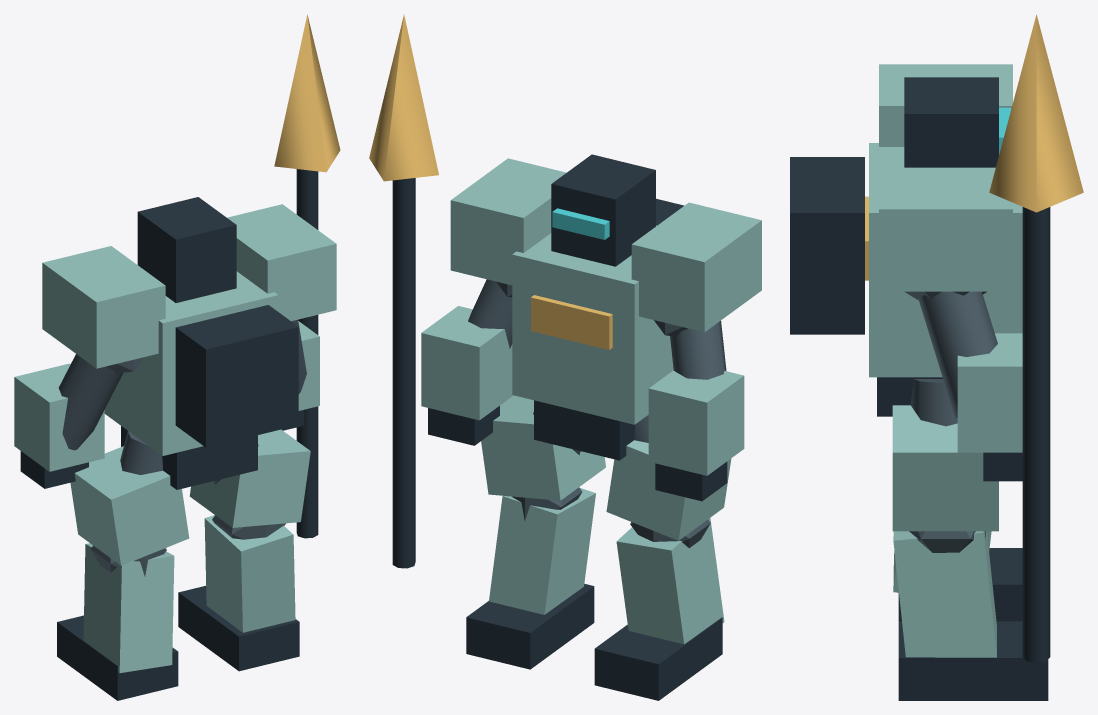
The model's file is frame-mourning-cloak.glb.
The picture shows the model from 3 angles, left to right: view 1: azimuth 30°, elevation 25°; view 2: azimuth 150°, elevation 25°; view 3: azimuth 270°, elevation 25°; orthographic projection. The views are drawn at different scales.
Parts seen in each view (by area): view 1: frame-mourning-cloak; view 2: frame-mourning-cloak; view 3: frame-mourning-cloak.
Part boxes in pixels (x1=…): frame-mourning-cloak: x1=14, y1=14, x2=340, y2=700; frame-mourning-cloak: x1=369, y1=14, x2=761, y2=700; frame-mourning-cloak: x1=790, y1=14, x2=1083, y2=700.
Size of the model in its own units: 1.17 by 2.03 by 0.745.
